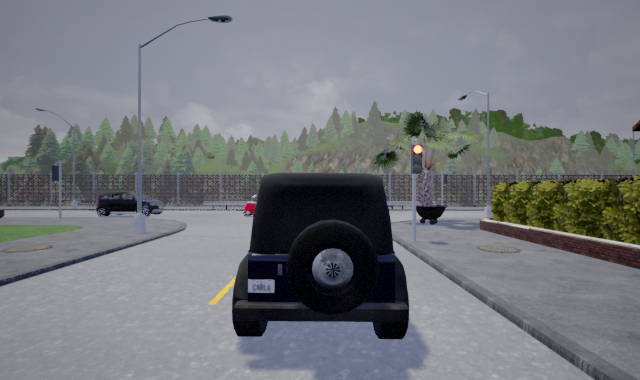traffic_light: (412, 143, 423, 176)
vehicle: (231, 172, 409, 340), (92, 191, 167, 217), (242, 194, 281, 217)
